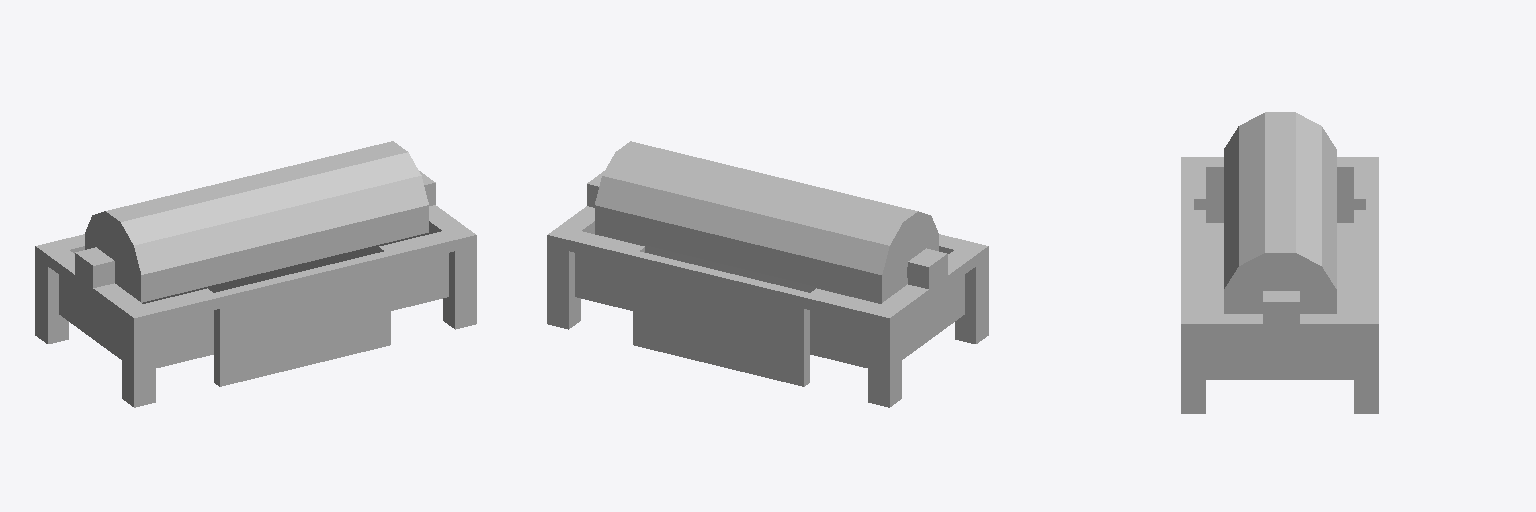
Rendered from magnetic_separator_mirrored_old.obj.
3 views of the same model, side by side, from view 1: azimuth 30°, elevation 25°; view 2: azimuth 150°, elevation 25°; view 3: azimuth 270°, elevation 25° (orthographic).
Visible parts, largest first — view 1: cube, tube, circle; view 2: cube, tube, circle; view 3: cube, tube, circle.
Boxes of the visible parts, box(x1,y1,x2,y2) form: cube: box(35, 171, 476, 407); tube: box(85, 141, 428, 303); circle: box(88, 219, 137, 298); cube: box(547, 171, 988, 407); tube: box(595, 141, 938, 303); circle: box(886, 219, 935, 298); cube: box(1181, 157, 1378, 413); tube: box(1224, 112, 1336, 313); circle: box(1236, 264, 1324, 313).
Bounding box in the file's own units: 4 × 1.65 × 2.